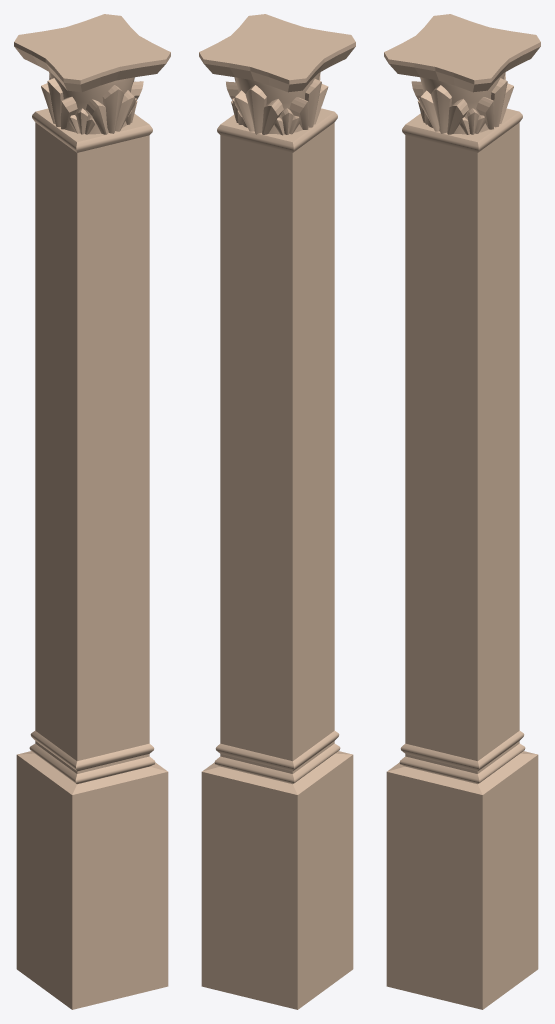
The model's file is BC_Pillar_B_02.fbx.
3 views of the same model, side by side, from view 1: azimuth 30°, elevation 25°; view 2: azimuth 150°, elevation 25°; view 3: azimuth 330°, elevation 25° (orthographic).
Visible parts, largest first — view 1: BC_Pillar_B_02; view 2: BC_Pillar_B_02; view 3: BC_Pillar_B_02.
Part boxes in pixels (bbox=[...]): BC_Pillar_B_02: bbox=[14, 14, 170, 1009]; BC_Pillar_B_02: bbox=[199, 14, 355, 1009]; BC_Pillar_B_02: bbox=[384, 14, 540, 1009].
Bounding box in the file's own units: 148 × 1226 × 148.
